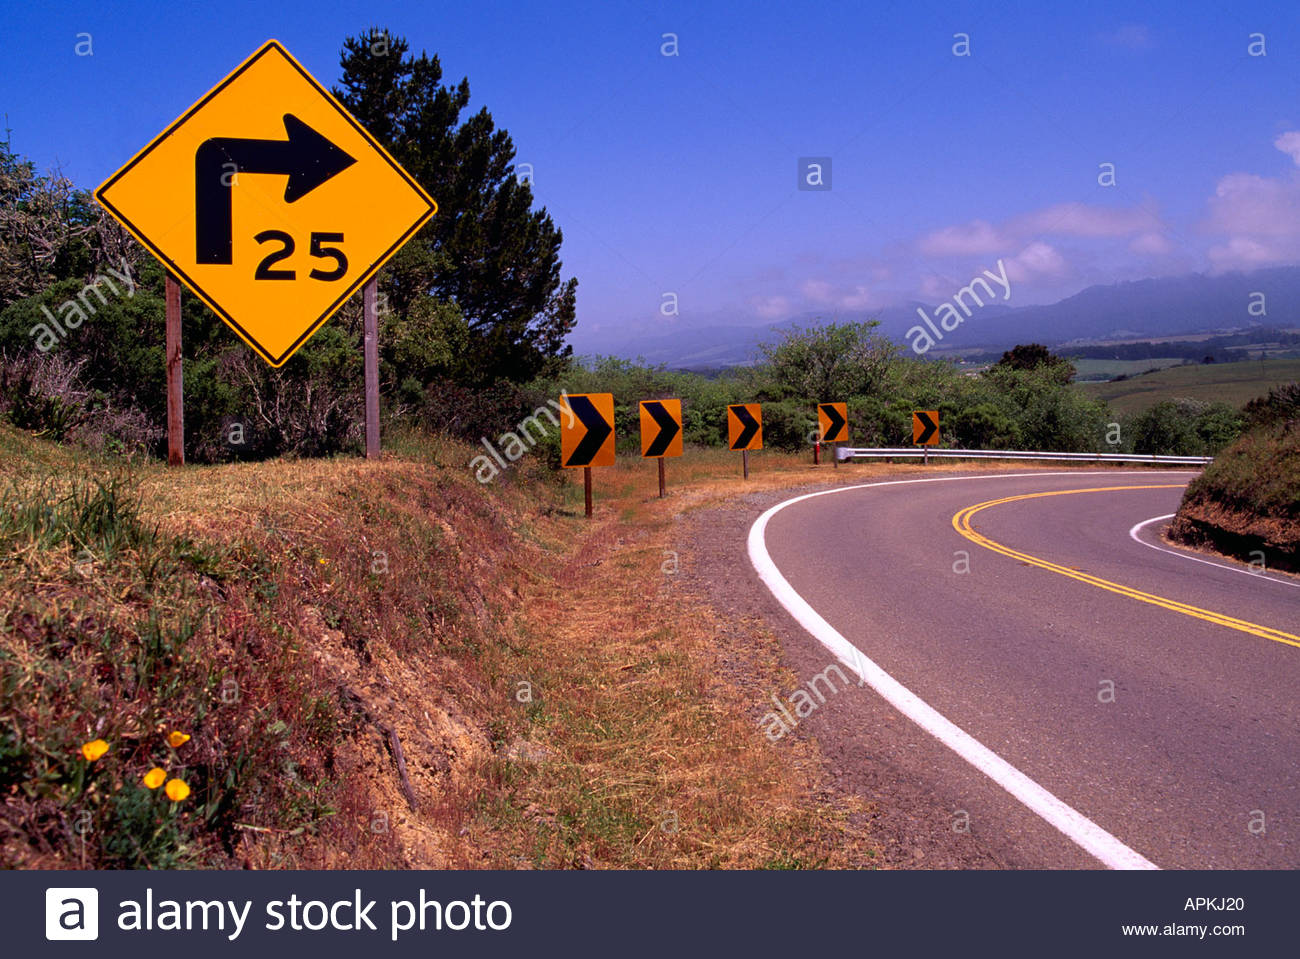right: (87, 33, 438, 370)
